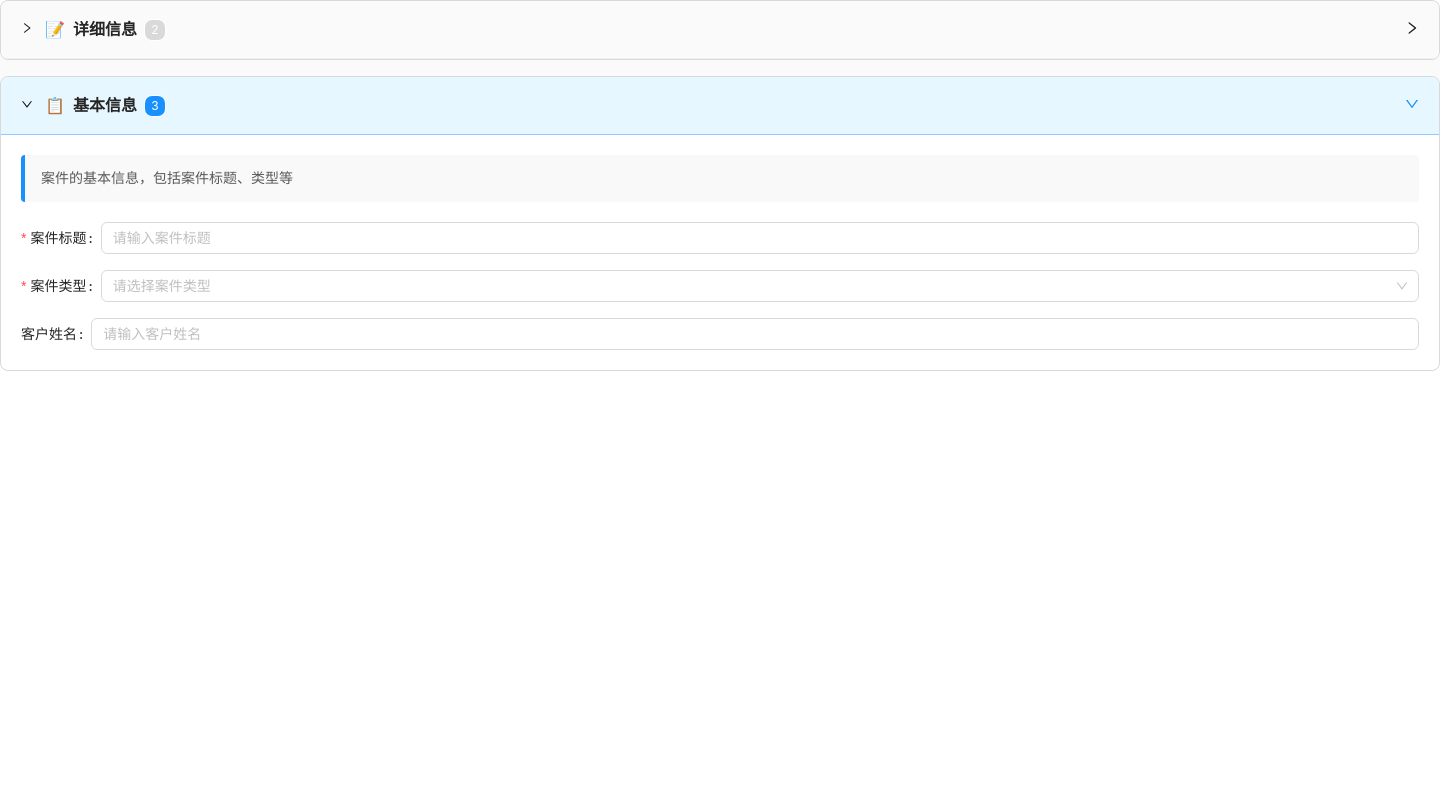
Test case: SmartFieldGroup › 应该支持分组折叠和展开
Expected: the text "案件标题" is shown, [21,222,101,254]
Expected: the text "涉案金额" is not shown
# 点击详细信息标题展开
Click the text "详细信息" at (105, 29), box [73,19,137,39]
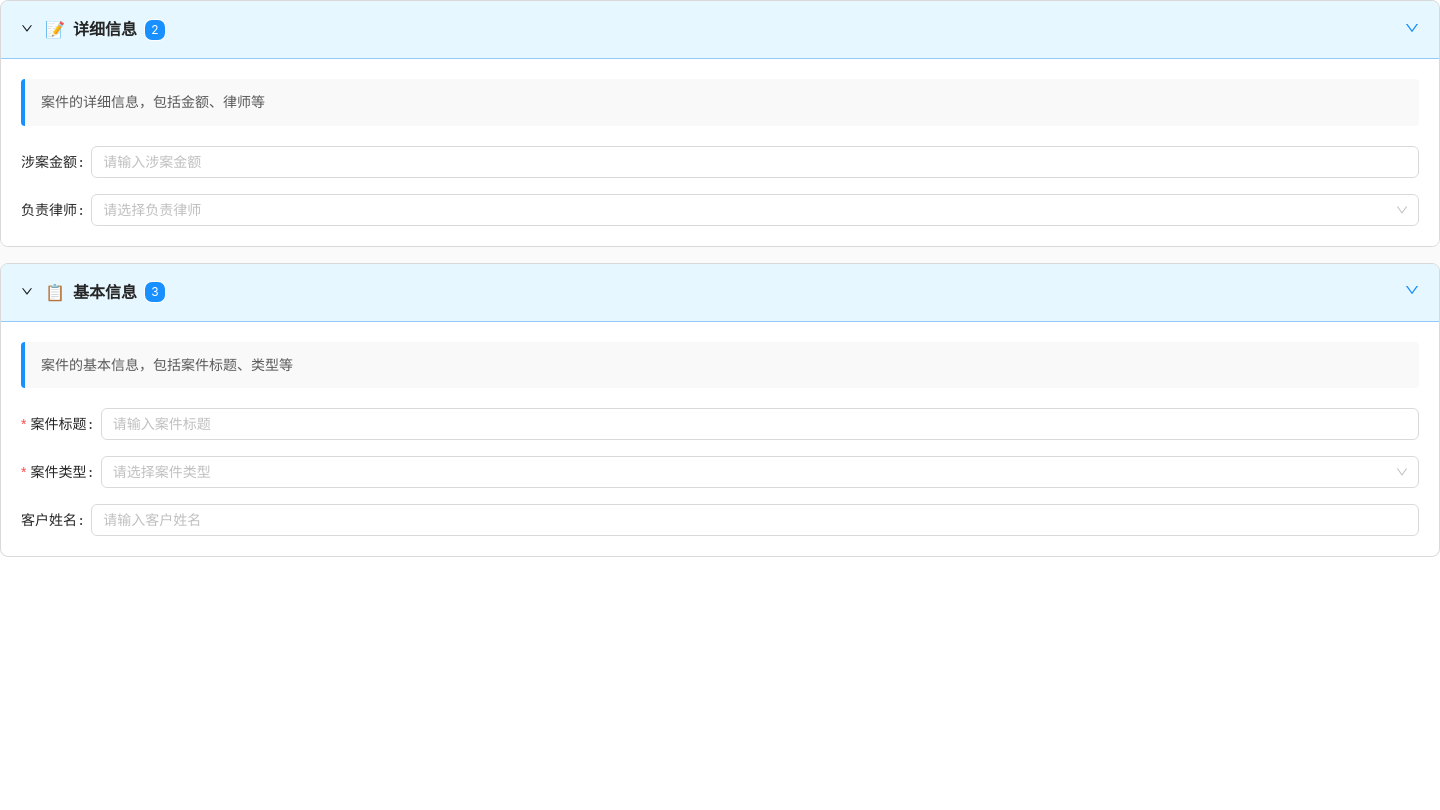
Expected: the text "涉案金额" is shown, [21,146,91,178]
